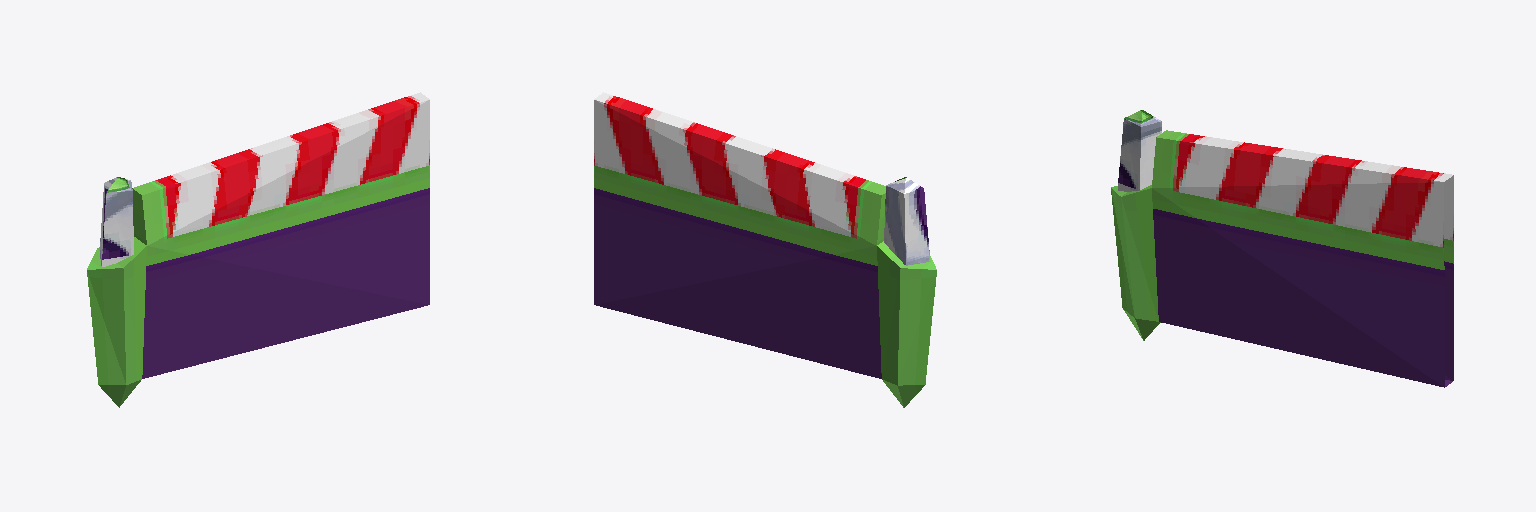
3 views of the same model, side by side, from view 1: azimuth 30°, elevation 25°; view 2: azimuth 150°, elevation 25°; view 3: azimuth 330°, elevation 25° (orthographic).
Visible parts, largest first — view 1: buzzlightyRightWing2_buzzlighty.003; view 2: buzzlightyRightWing2_buzzlighty.003; view 3: buzzlightyRightWing2_buzzlighty.003.
Boxes of the visible parts, box(x1,y1,x2,y2) form: buzzlightyRightWing2_buzzlighty.003: box(87, 92, 429, 407); buzzlightyRightWing2_buzzlighty.003: box(594, 92, 936, 407); buzzlightyRightWing2_buzzlighty.003: box(1111, 110, 1453, 387).
Bounding box in the file's own units: 0.25 × 0.1677 × 0.0338.
Materials: 1 (1 with a texture image).